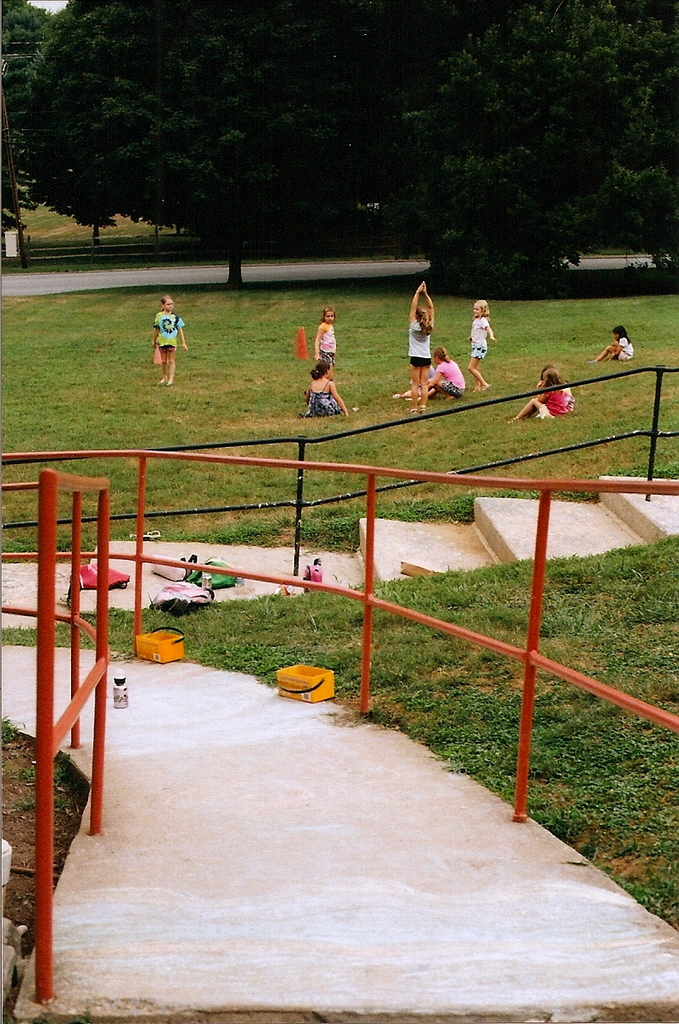Person: (151, 281, 633, 422)
